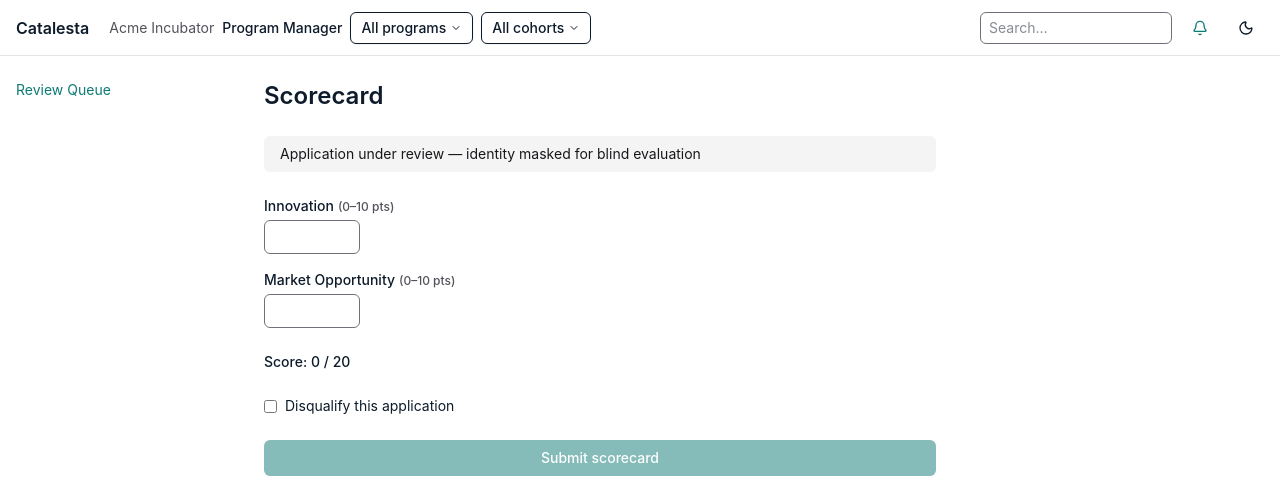
renders criterion inputs and live total updates via scoreCard
The image size is (1280, 493).
Expected: the number field named "Score for Market Opportunity" is shown, [264, 294, 360, 328]
Expected: the text with test id "score-earned" reads "0", [311, 353, 320, 370]
Type "7" into the number field named "Score for Innovation" at (312, 237), box [264, 220, 360, 254]
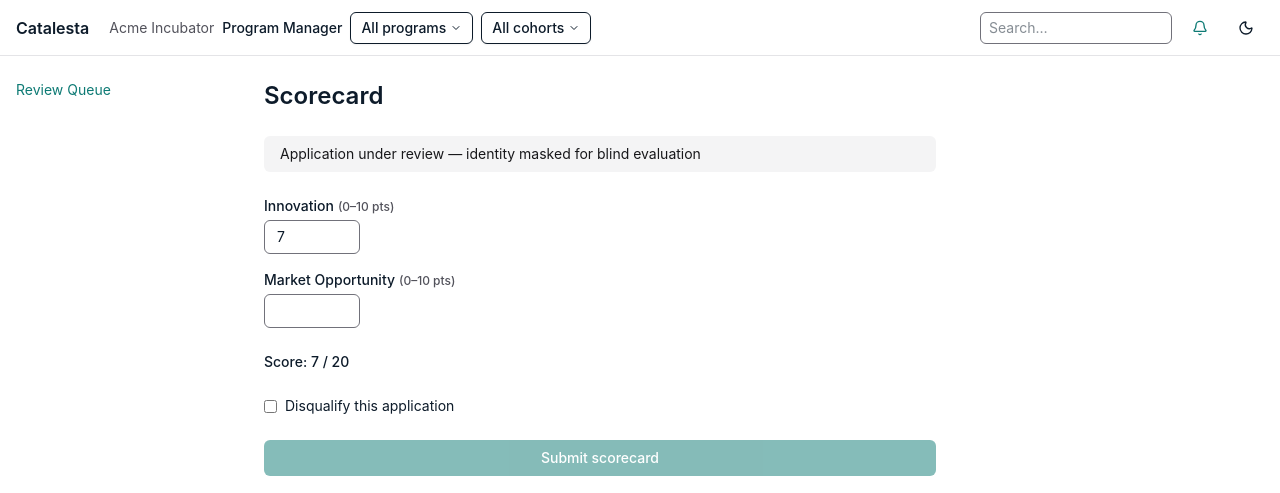
Expected: the text with test id "score-earned" reads "7", [311, 353, 319, 370]
Type "5" into the number field named "Score for Market Opportunity" at (312, 311), box [264, 294, 360, 328]
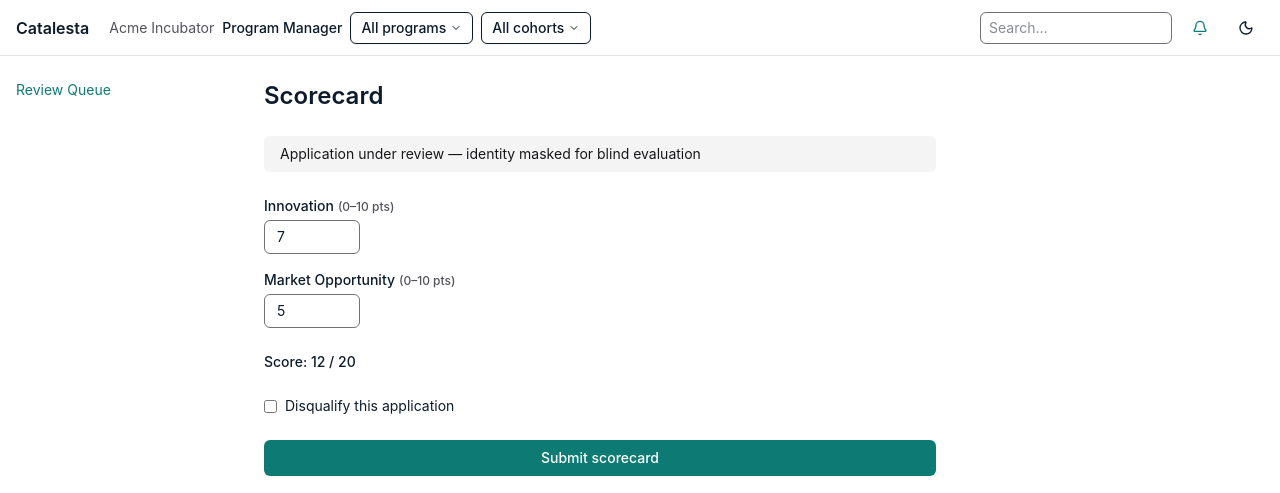
Expected: the text with test id "score-earned" reads "12", [311, 353, 325, 370]
